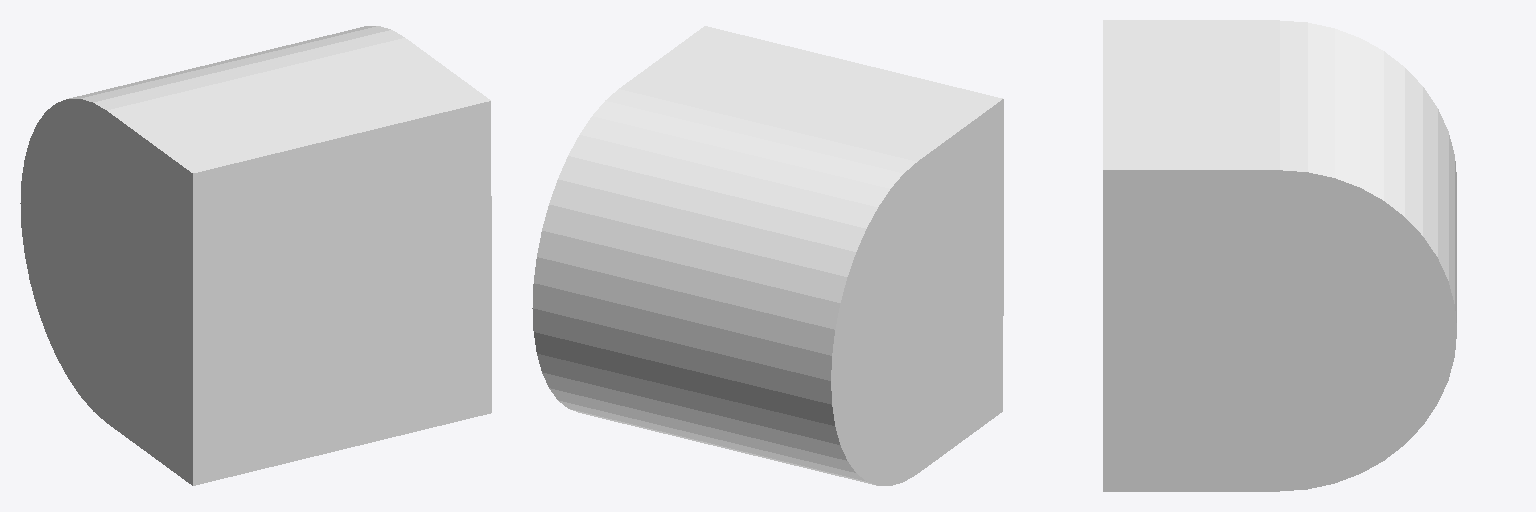
robot.urdf — dtto:
<?xml version="1.0" ?>
<robot name="dtto">
  <joint name="dtto__male_joint" type="fixed">
    <parent link="dtto__joint_link"/>
    <child link="dtto__male_link"/>
    <origin rpy="0     -1.5707  0" xyz="0    0.01  0"/>
    <axis xyz="0  1  0"/>
    <limit effort="1" lower="0" upper="1" velocity="1"/>
  </joint>
  <joint name="dtto__female_joint" type="fixed">
    <parent link="dtto__joint_link"/>
    <child link="dtto__female_link"/>
    <origin rpy="0     -1.5707  3.1414" xyz="-0.064  0     0"/>
    <axis xyz="0.00000000e+00  -1.00000000e+00  -1.90000000e-04"/>
    <limit effort="1" lower="0" upper="1" velocity="1"/>
  </joint>
  <link name="dtto__male_link">
    <inertial>
      <mass value="1"/>
      <origin rpy="0  0  0" xyz="0  0  0"/>
      <inertia ixx="0" ixy="0" ixz="0" iyy="0" iyz="0" izz="0"/>
    </inertial>
    <collision name="dtto__collision">
      <origin rpy="0  0  0" xyz="0  0  0"/>
      <geometry>
        <mesh filename="package://dtto/meshes/male.dae" scale="1.0 1.0 1.0"/>
      </geometry>
    </collision>
    <visual name="dtto__visual">
      <origin rpy="0  0  0" xyz="0  0  0"/>
      <geometry>
        <mesh filename="package://dtto/meshes/male.dae" scale="1.0 1.0 1.0"/>
      </geometry>
    </visual>
  </link>
  <link name="dtto__joint_link">
    <inertial>
      <mass value="1"/>
      <origin rpy="0  0  0" xyz="0  0  0"/>
      <inertia ixx="0" ixy="0" ixz="0" iyy="0" iyz="0" izz="0"/>
    </inertial>
    <visual name="dtto__visual">
      <origin rpy="1.57050000e+00  -1.90000000e-04  -1.90000000e-04" xyz="-0.12  0.09  0"/>
      <geometry>
        <mesh filename="package://dtto/meshes/cube.dae" scale="0.2 0.096 0.12"/>
      </geometry>
    </visual>
  </link>
  <link name="dtto__female_link">
    <inertial>
      <mass value="1"/>
      <origin rpy="0  0  0" xyz="0  0  0"/>
      <inertia ixx="0" ixy="0" ixz="0" iyy="0" iyz="0" izz="0"/>
    </inertial>
    <collision name="dtto__collision">
      <origin rpy="0  0  0" xyz="0  0  0"/>
      <geometry>
        <mesh filename="package://dtto/meshes/female.dae" scale="1.0 1.0 1.0"/>
      </geometry>
    </collision>
    <visual name="dtto__visual">
      <origin rpy="0  0  0" xyz="0  0  0"/>
      <geometry>
        <mesh filename="package://dtto/meshes/female.dae" scale="1.0 1.0 1.0"/>
      </geometry>
    </visual>
  </link>



</robot>

--- Render facts (derived) ---
Views: 3 orthographic renders of the robot side by side, from view 1: azimuth 30°, elevation 25°; view 2: azimuth 150°, elevation 25°; view 3: azimuth 270°, elevation 25°.
Model dtto with 3 links and 2 joints (2 fixed), rooted at dtto__joint_link, posed every joint at zero.
Links seen in each view (by area): view 1: dtto__female_link; view 2: dtto__female_link; view 3: dtto__female_link.
Link boxes in pixels (box(x1,y1,x2,y2)): dtto__female_link: box(20, 26, 491, 485); dtto__female_link: box(532, 26, 1003, 485); dtto__female_link: box(1103, 20, 1456, 491).
Bounding box of the posed robot: 0.064 × 0.064 × 0.064 m (x, y, z).
1 mesh visuals loaded from 3 distinct referenced files (1 Collada DAE); not drawn: 1 (reference not matched to a file when rendering), 1 (file found but could not be loaded).